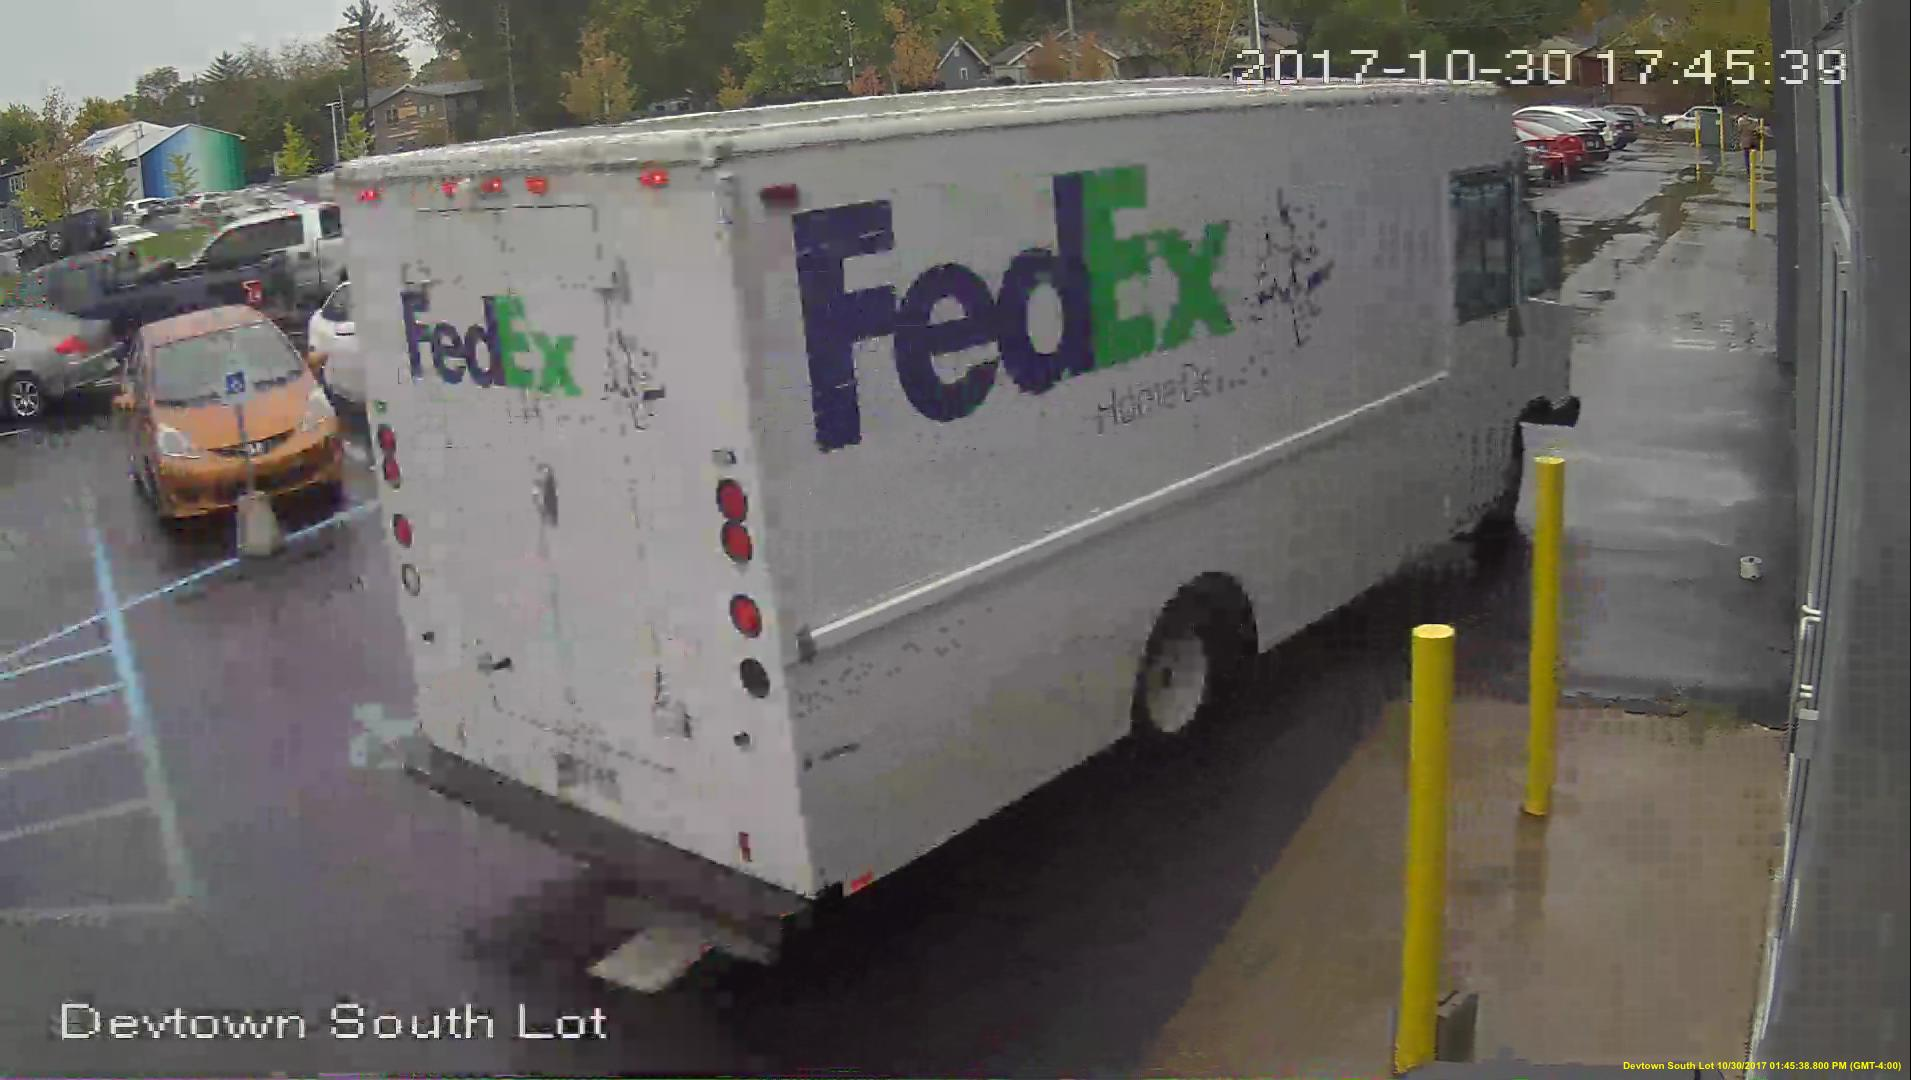fedex_truck: (354, 91, 1534, 930)
